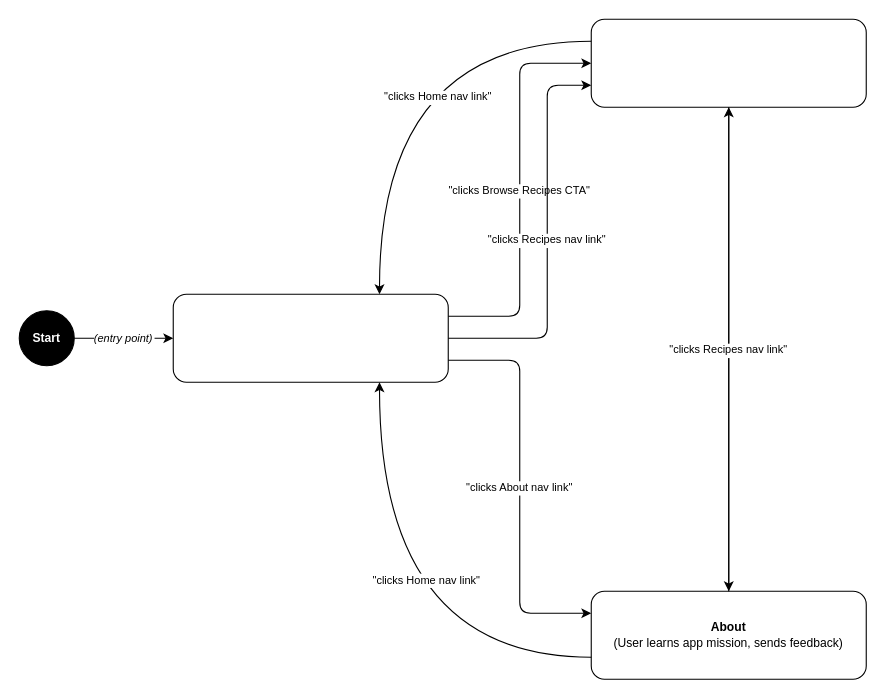
This 886x699 diagram has some shape labels left out. Each missing label, with the centre of its shape:
"Home (User discovers app, understands purpose)" goes at [310,337].
"Recipes (User searches and finds a matching recipe)" goes at [728,62].
